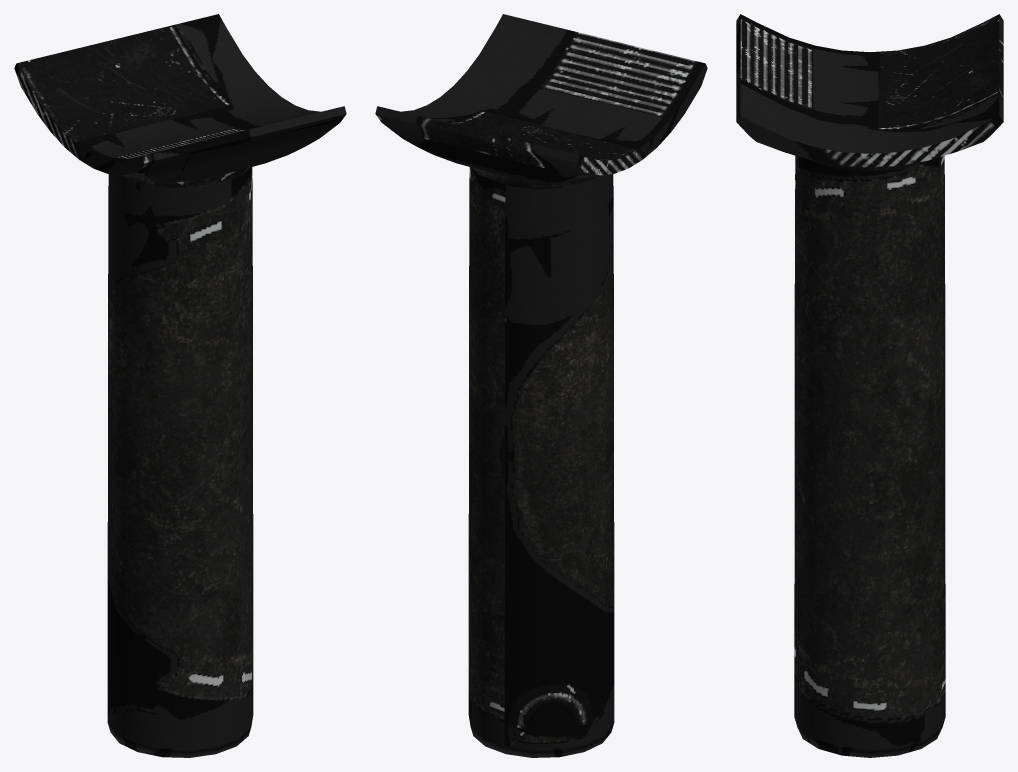
The model's file is BMX_Seat Post_Saturday_Morning.fbx.
The picture shows the model from 3 angles, left to right: view 1: azimuth 30°, elevation 25°; view 2: azimuth 150°, elevation 25°; view 3: azimuth 270°, elevation 25°; orthographic projection. The views are drawn at different scales.
Parts seen in each view (by area): view 1: BMX_SeatPost_Saturday_Morning; view 2: BMX_SeatPost_Saturday_Morning; view 3: BMX_SeatPost_Saturday_Morning.
Part boxes in pixels (x1,y1,x2,y2): BMX_SeatPost_Saturday_Morning: (14, 14, 346, 757); BMX_SeatPost_Saturday_Morning: (375, 14, 707, 757); BMX_SeatPost_Saturday_Morning: (736, 14, 1003, 757).
Bounding box in the file's own units: 4.08 × 12.4 × 4.53.
